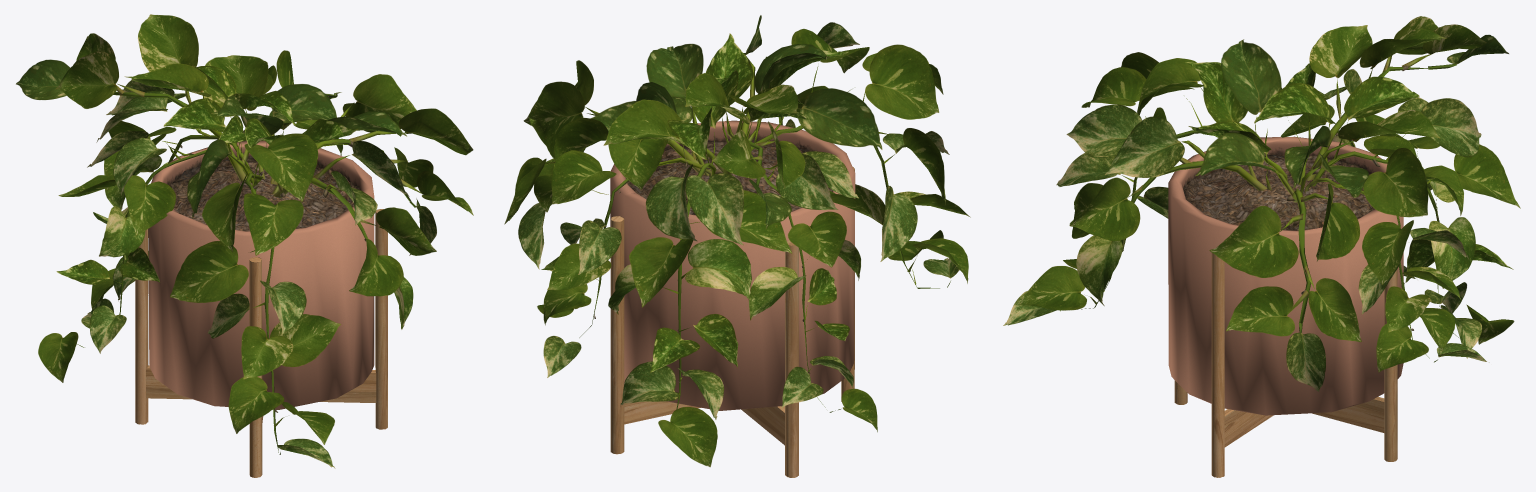
File: free_pothos_potted_plant_-_money_plant.glb
3 renders of one model, left to right at view 1: azimuth 30°, elevation 25°; view 2: azimuth 150°, elevation 25°; view 3: azimuth 270°, elevation 25°, orthographic. The views are drawn at different scales.
Parts seen in each view (by area): view 1: POTHOS, POT_WOOD_LEGS; view 2: POTHOS, POT_WOOD_LEGS; view 3: POTHOS, POT_WOOD_LEGS.
Part boxes in pixels (x1,y1,x2,y2): POTHOS: (16, 14, 473, 468); POT_WOOD_LEGS: (135, 140, 387, 477); POTHOS: (504, 15, 970, 467); POT_WOOD_LEGS: (610, 120, 855, 477); POTHOS: (1003, 16, 1520, 391); POT_WOOD_LEGS: (1168, 136, 1403, 477).
Size of the model in its own units: 0.8267 by 0.7915 by 0.9741.
2 materials, 2 textured.
